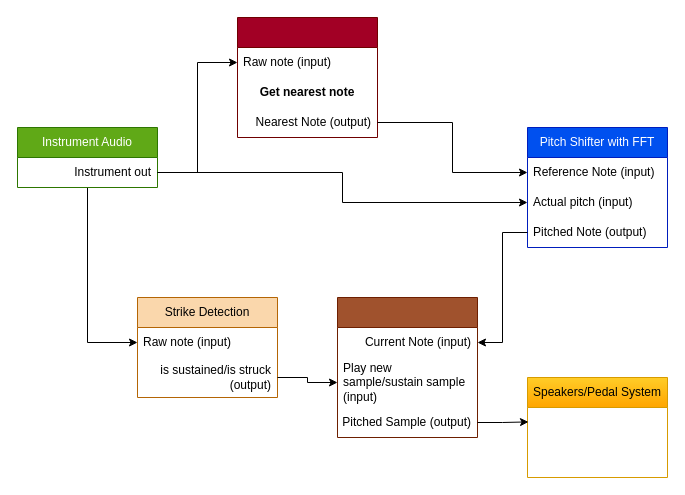
Some shapes in this 685 by 495 pixel diagram are drawn without their labels. The box of each missing label's shape, as (x1, y1, x2, y2) in pixels:
Note Classifier (LUT): (236, 16, 378, 138)
Synthesizer: (336, 296, 478, 438)
